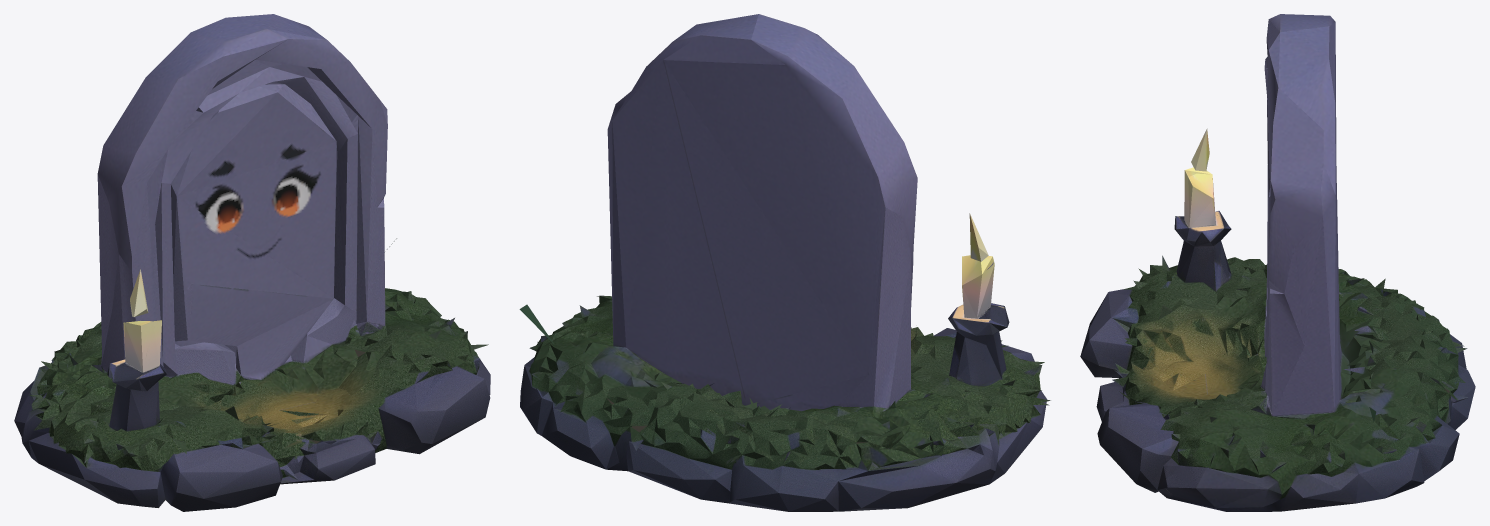
Rendered from hw-tomb.glb.
3 renders of one model, left to right at view 1: azimuth 30°, elevation 25°; view 2: azimuth 150°, elevation 25°; view 3: azimuth 270°, elevation 25°, orthographic. The views are drawn at different scales.
Bounding box in the file's own units: 1.86 × 1.59 × 1.46.
1 material, 1 textured.
